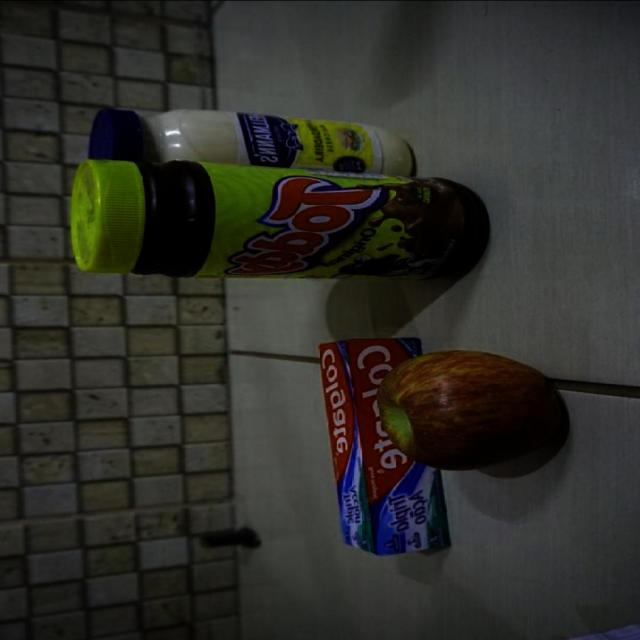Apple: (375, 349, 561, 474)
ChocolatePowder: (68, 160, 494, 284)
Mayonnaise: (79, 104, 419, 178)
Toothpaste: (313, 337, 451, 557)
